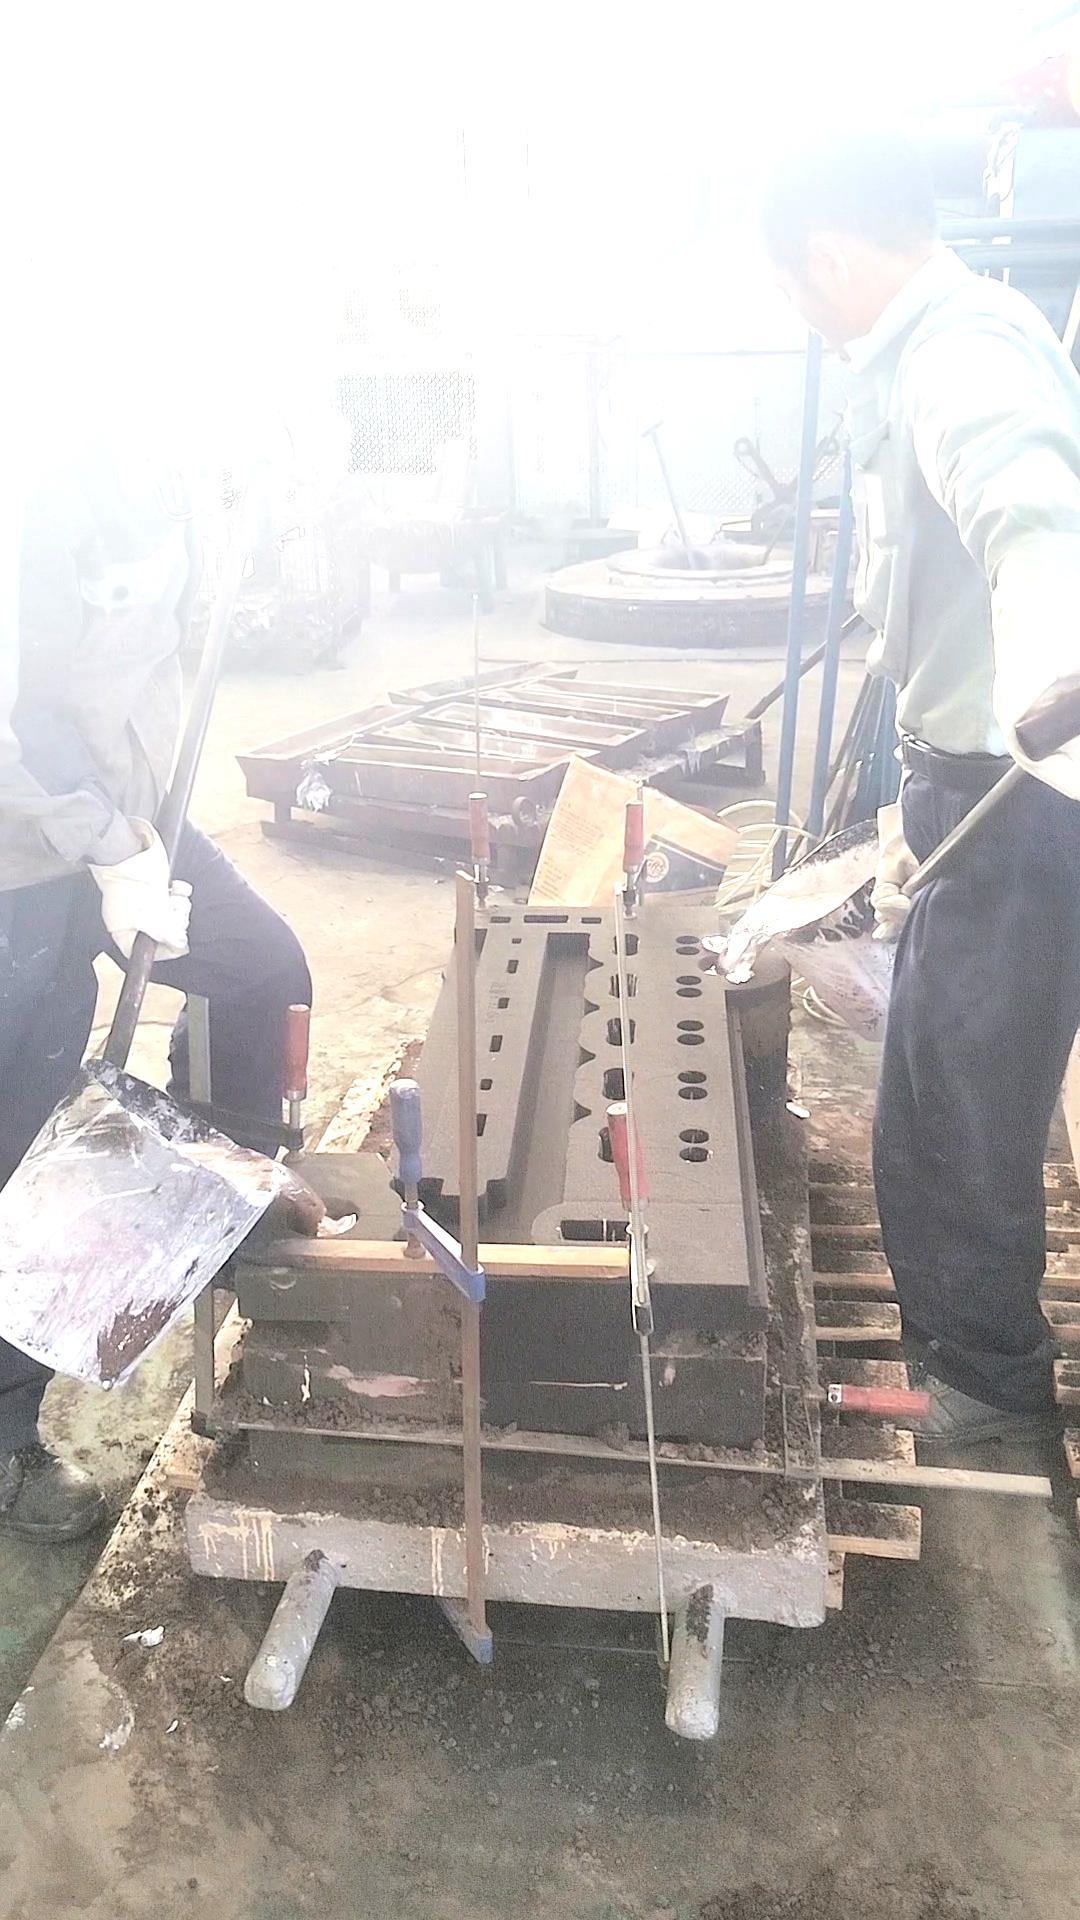pouring hole: (286, 1197, 360, 1238), (696, 953, 757, 976)
